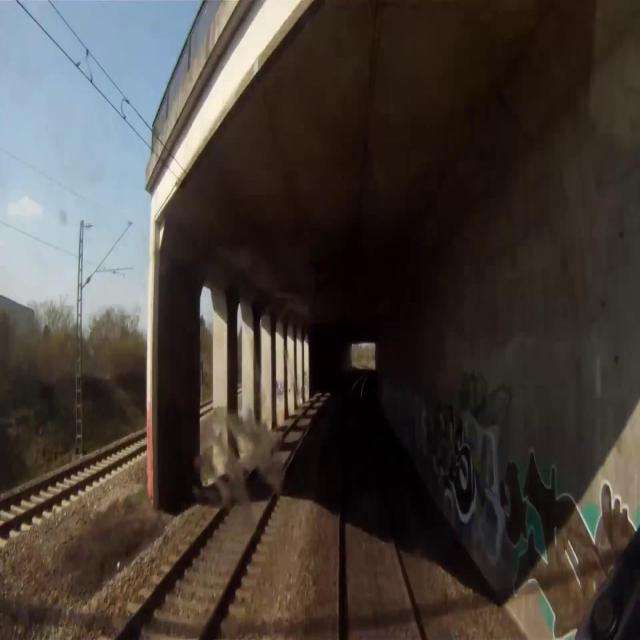rail-track: (123, 389, 328, 639), (341, 378, 415, 639), (0, 436, 147, 523)
